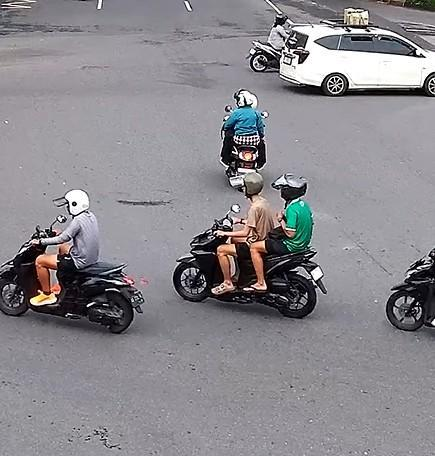Helmet: (271, 173, 306, 201), (53, 190, 89, 216), (244, 172, 263, 197), (234, 89, 257, 108), (275, 14, 287, 25)
Number Plate: (130, 290, 145, 306), (310, 266, 323, 280), (283, 56, 292, 64), (249, 48, 255, 54)
Rearview Mirror: (231, 204, 240, 213), (56, 215, 66, 223), (415, 49, 425, 57), (261, 111, 269, 119), (224, 105, 231, 112)
